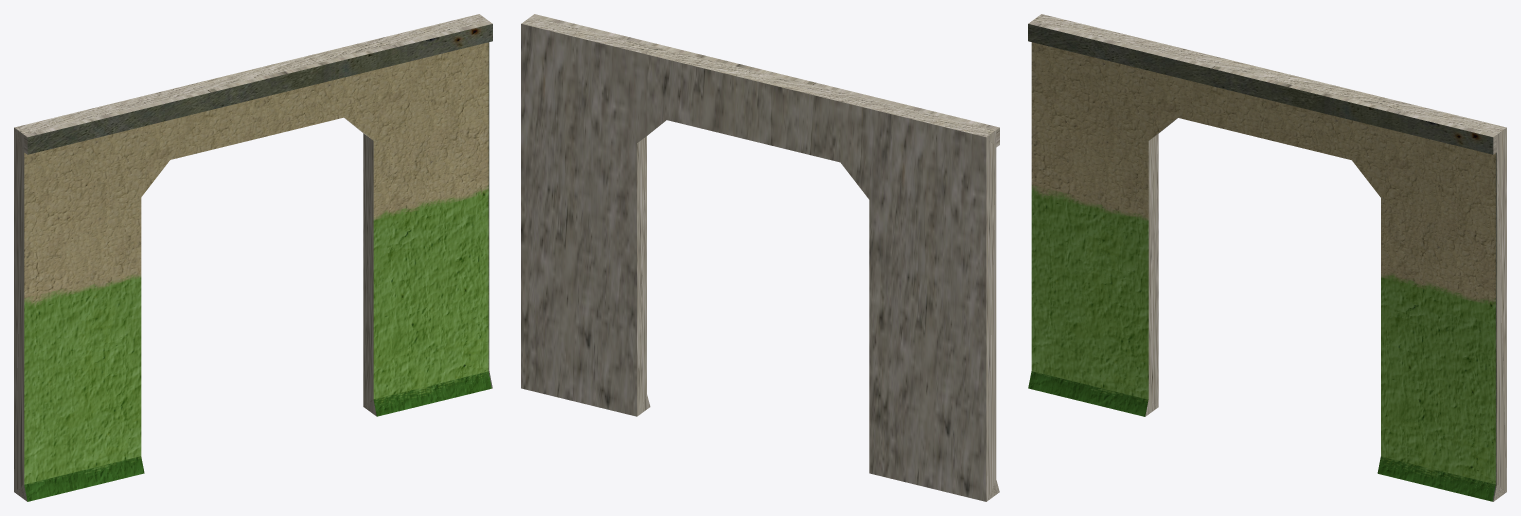
File: GeometryAsset.FBX
The picture shows the model from 3 angles, left to right: view 1: azimuth 30°, elevation 25°; view 2: azimuth 150°, elevation 25°; view 3: azimuth 330°, elevation 25°; orthographic projection.
Parts seen in each view (by area): view 1: WallDoor; view 2: WallDoor; view 3: WallDoor.
Part boxes in pixels (left/top/right/bottom): WallDoor: left=14, top=14, right=492, bottom=501; WallDoor: left=521, top=14, right=999, bottom=501; WallDoor: left=1028, top=14, right=1506, bottom=501.
Bounding box in the file's own units: 158 × 118 × 7.87.
